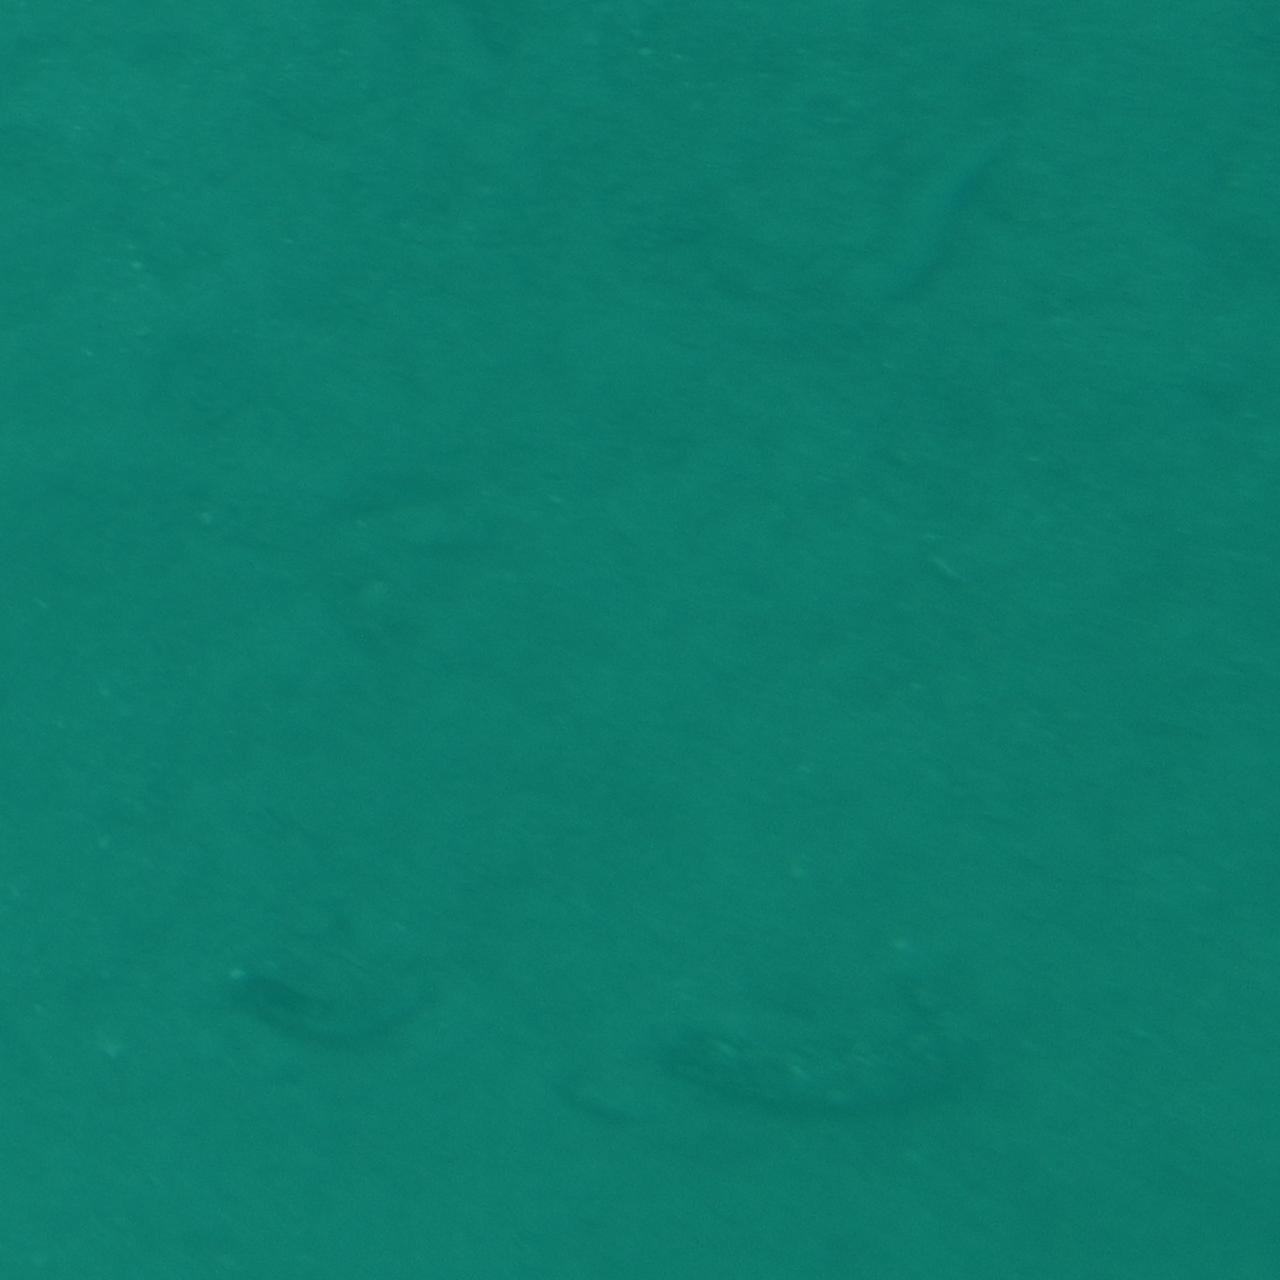Holothuria tubulosa: (653, 985, 1012, 1129), (865, 111, 1044, 338), (197, 949, 456, 1056)
